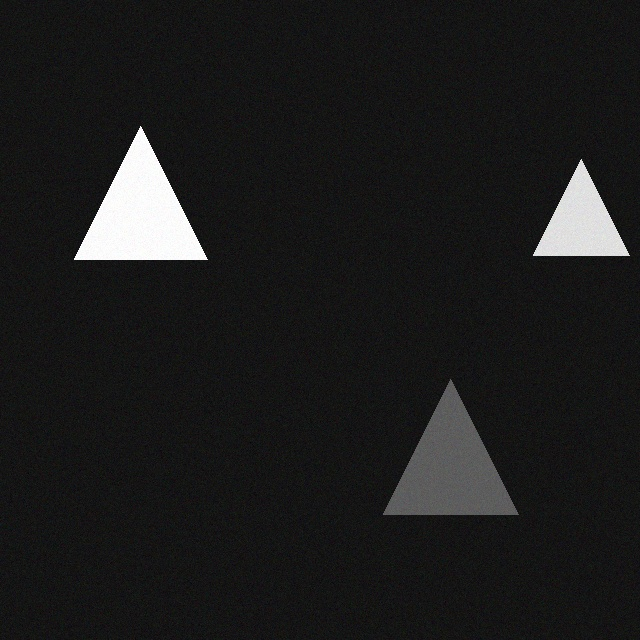triangle: (378, 367, 513, 502), (69, 114, 202, 247), (528, 147, 624, 243)
